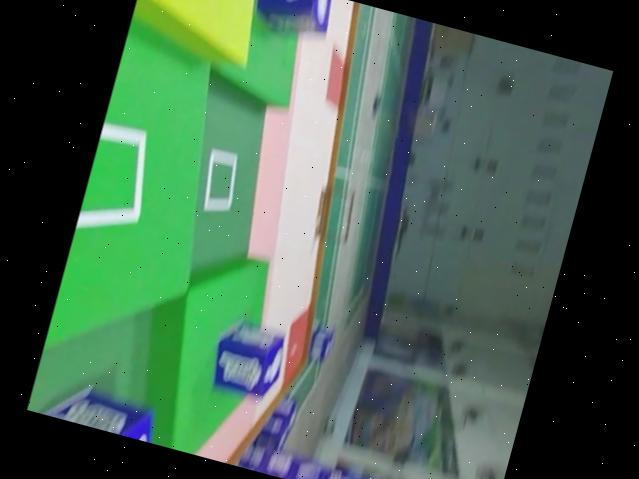R2 Fake Blue: (26, 373, 163, 443), (205, 313, 290, 398), (242, 0, 334, 38)
